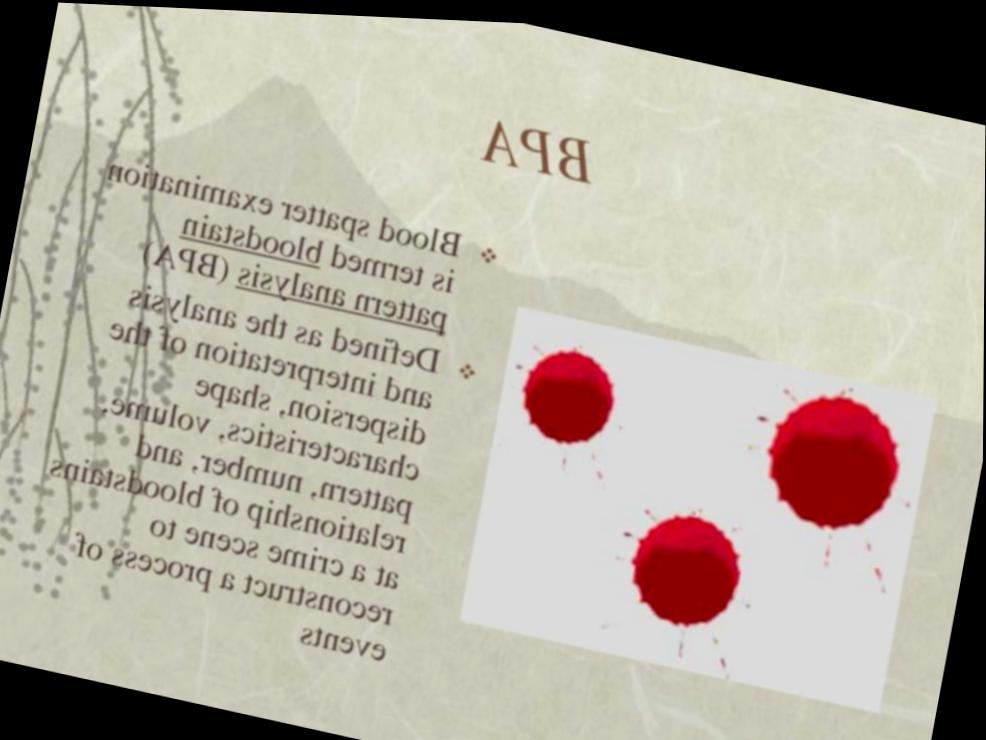Fire: (767, 383, 901, 521), (631, 507, 742, 620), (522, 343, 616, 438)
